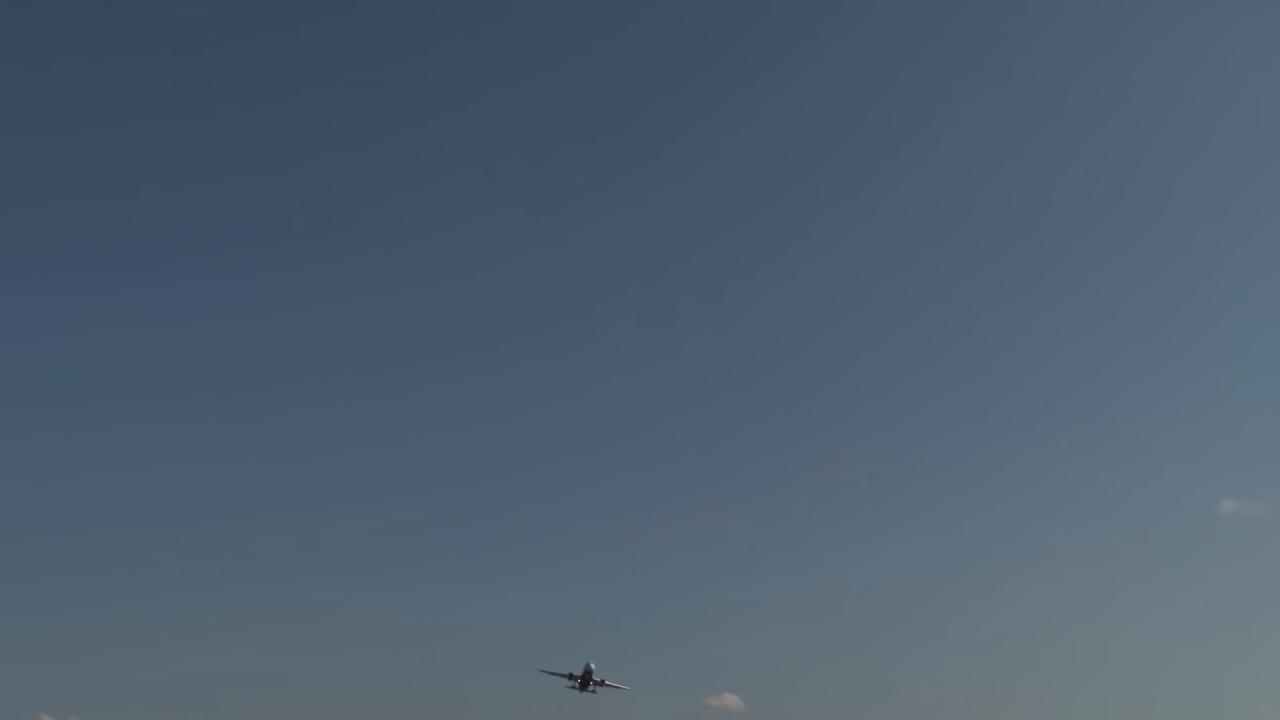Airplane: (531, 654, 645, 704)
